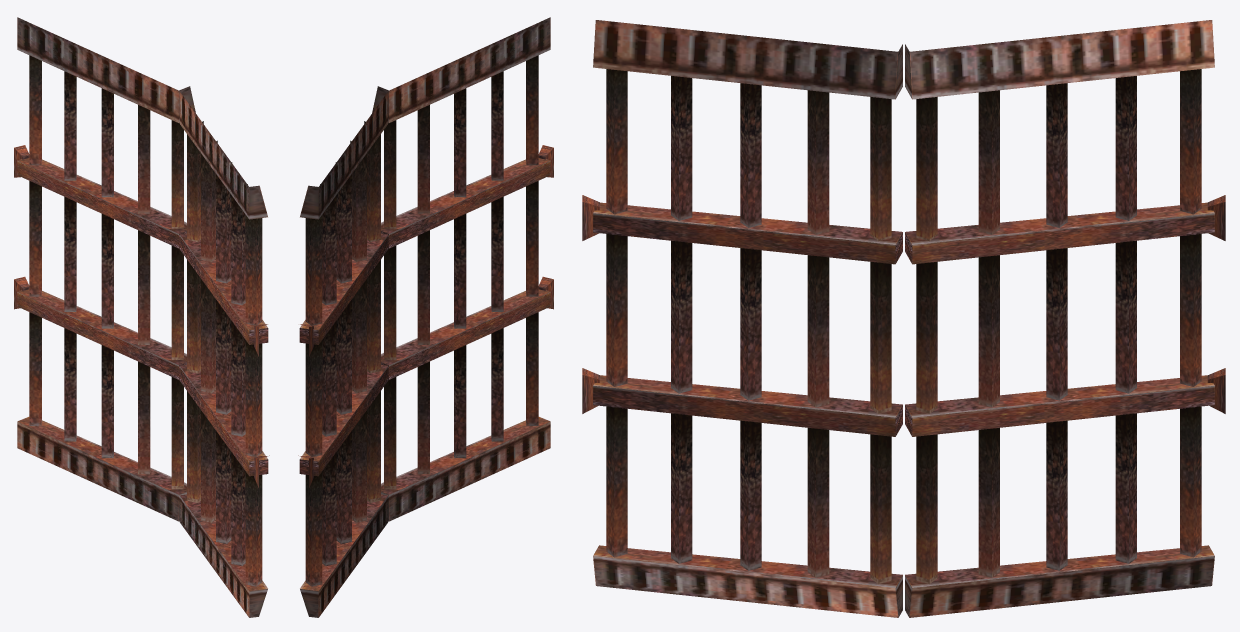
The model's file is M12A_DRAINGATECLOSED.glb.
3 views of the same model, side by side, from view 1: azimuth 30°, elevation 25°; view 2: azimuth 150°, elevation 25°; view 3: azimuth 270°, elevation 25° (orthographic). The views are drawn at different scales.
Parts seen in each view (by area): view 1: M12A_DRAINGATECLOSED; view 2: M12A_DRAINGATECLOSED; view 3: M12A_DRAINGATECLOSED.
Boxes of the visible parts, bbox=[...] form: M12A_DRAINGATECLOSED: bbox=[14, 17, 269, 617]; M12A_DRAINGATECLOSED: bbox=[298, 17, 553, 617]; M12A_DRAINGATECLOSED: bbox=[582, 20, 1225, 617].
Size of the model in its own units: 0.628 by 3.89 by 4.01.
Materials: 1 (1 with a texture image).
